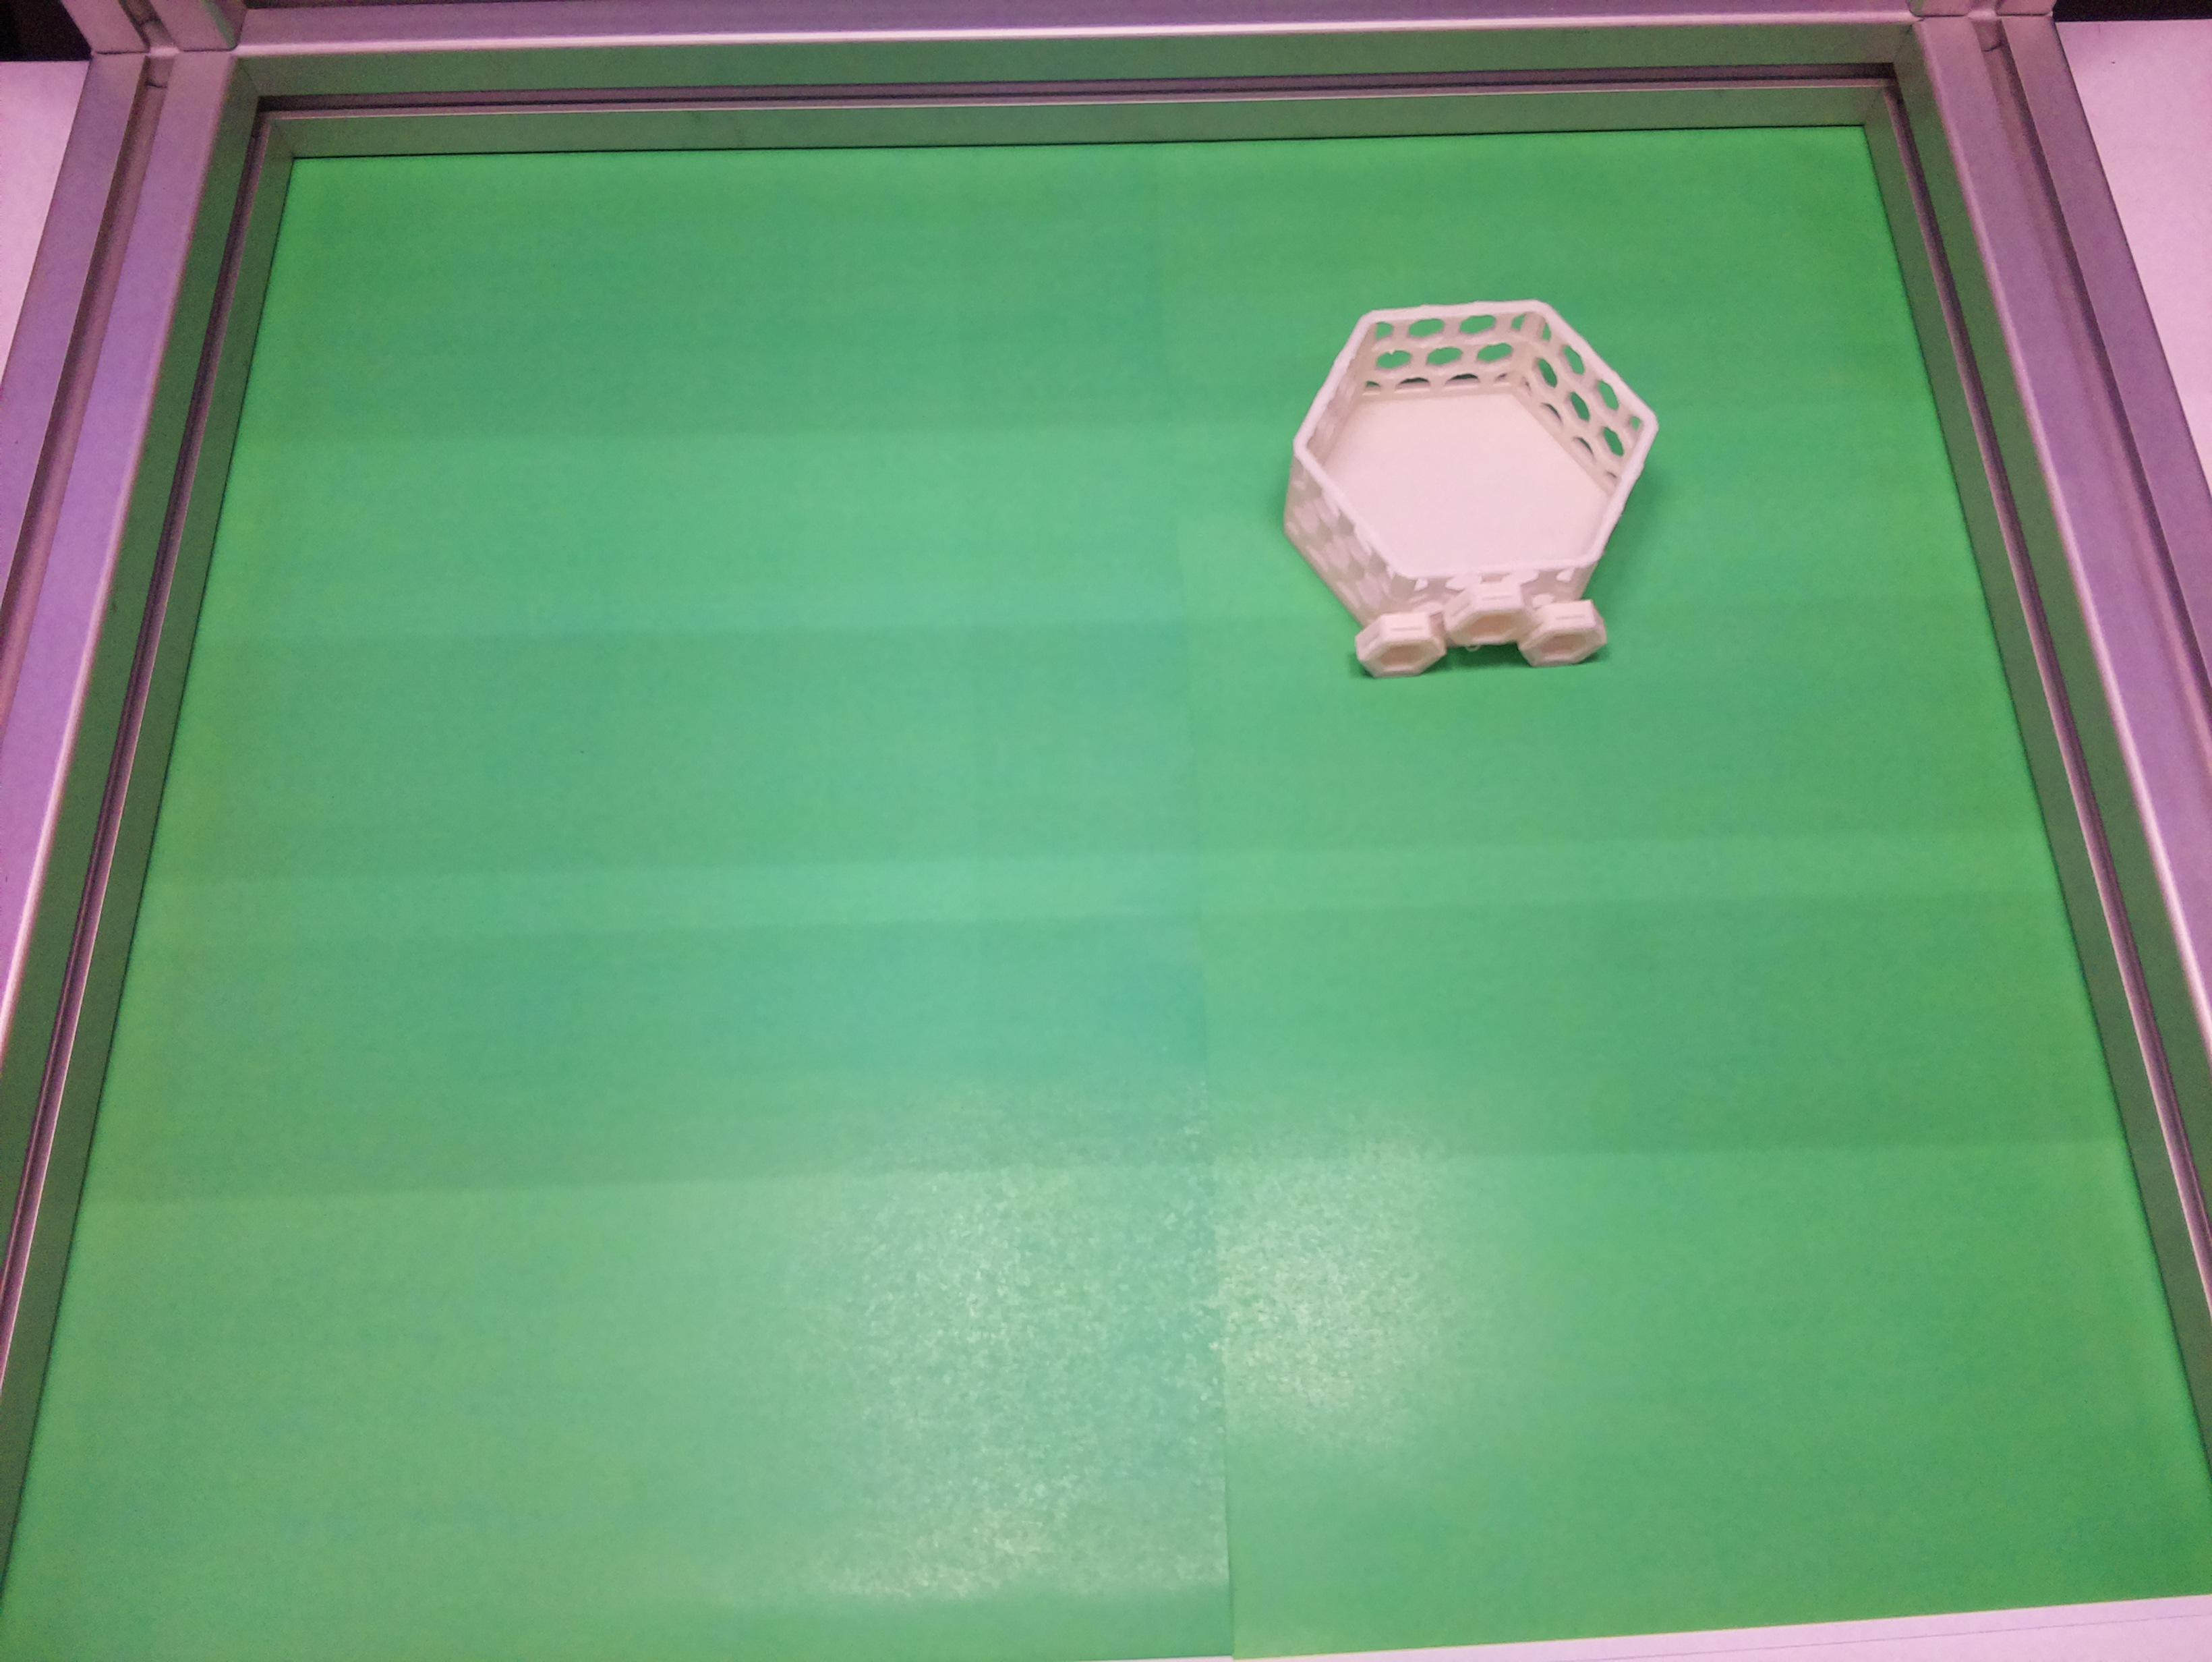bottle_holder: (1271, 290, 1673, 683)
